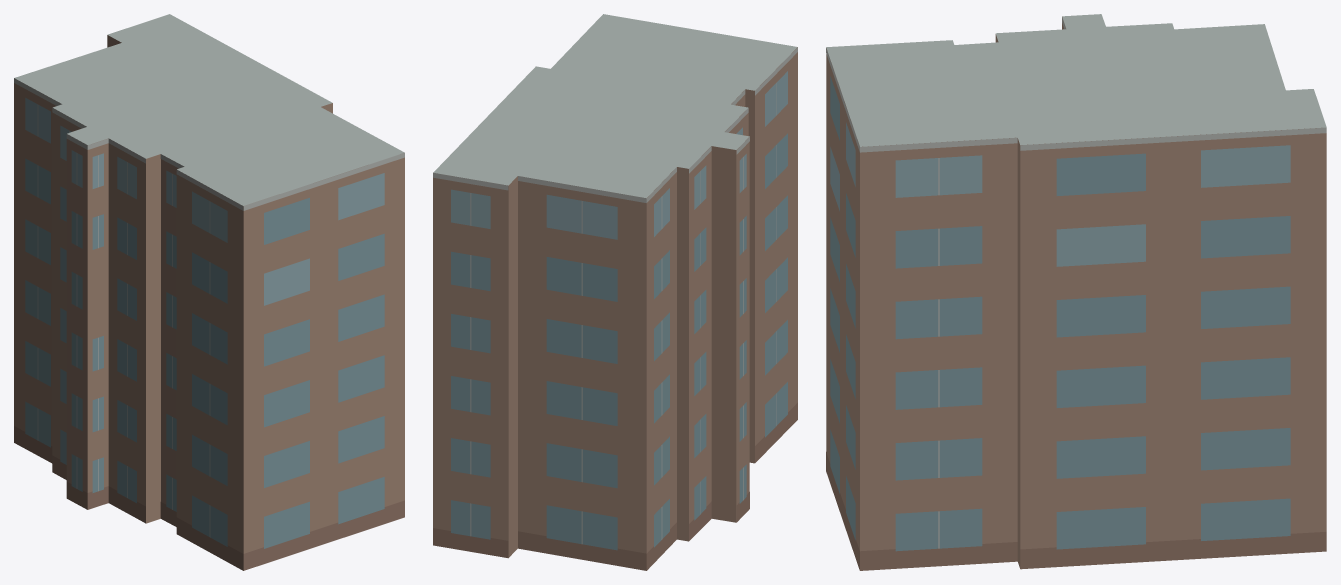
The model's file is survey-upis-32656206.glb.
3 views of the same model, side by side, from view 1: azimuth 30°, elevation 25°; view 2: azimuth 150°, elevation 25°; view 3: azimuth 270°, elevation 25° (orthographic). The views are drawn at different scales.
Visible parts, largest first — view 1: survey-upis-32656206.tmp; view 2: survey-upis-32656206.tmp; view 3: survey-upis-32656206.tmp.
Part boxes in pixels (left/top/right/bottom): survey-upis-32656206.tmp: left=14, top=14, right=404, bottom=570; survey-upis-32656206.tmp: left=433, top=14, right=797, bottom=570; survey-upis-32656206.tmp: left=826, top=14, right=1326, bottom=570.
Size of the model in its own units: 12.31 by 18.3 by 19.6.
